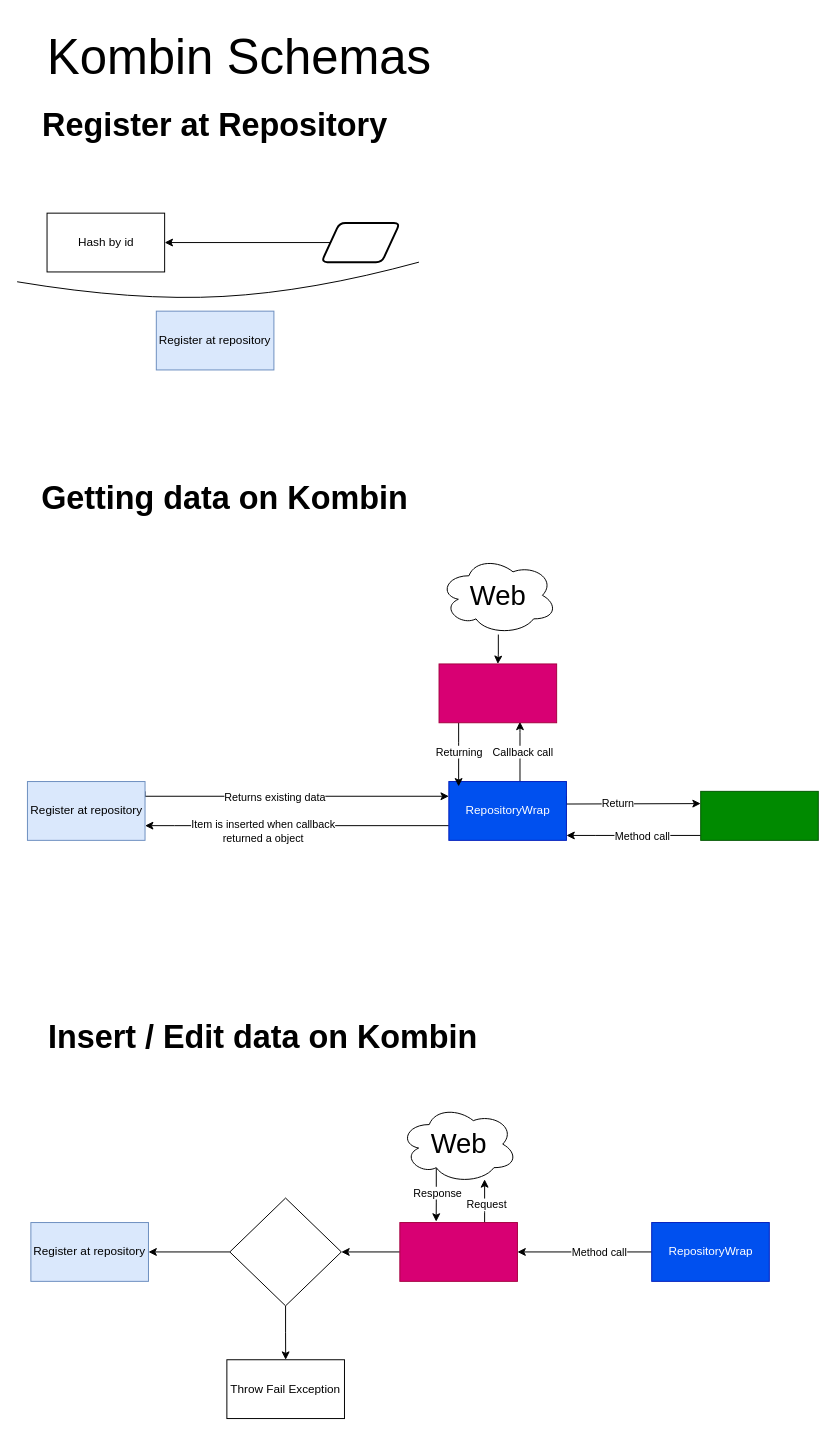
The diagram is 836 pixels wide and 1436 high, and some of its shapes have lost their labels. Each missing label, with the centre of its shape:
"Async Method" goes at (759,815).
"Entity" goes at (360,242).
"Predefined find callback" goes at (497,693).
"Predefined insert / update method" goes at (458,1251).
"Response is Successfull Or Failed" goes at (285,1251).
